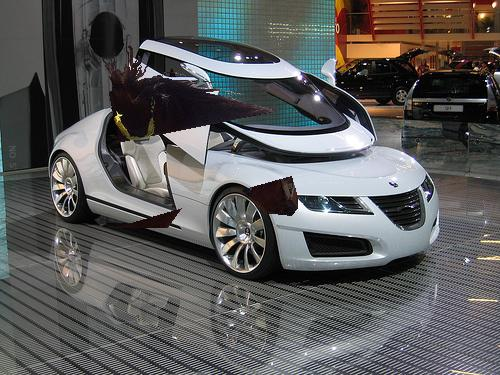tampered: (102, 42, 298, 228)
